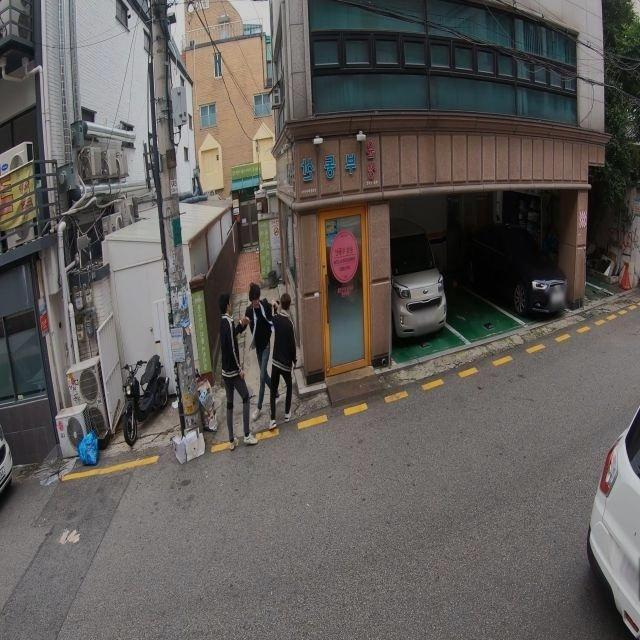fight: (217, 282, 297, 452)
